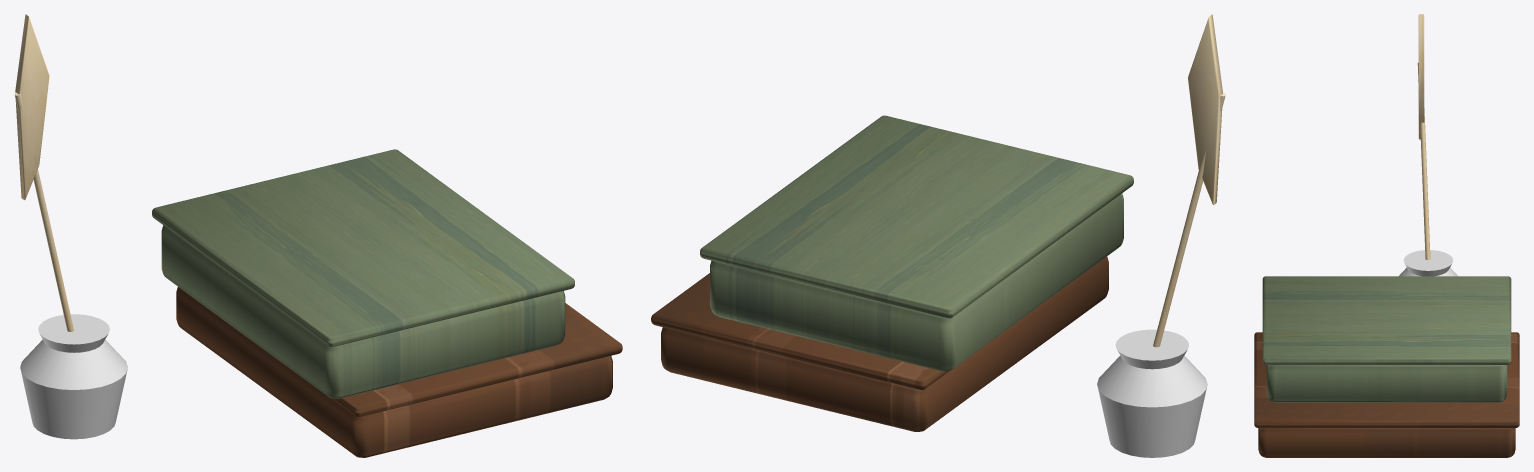
Rendered from CM_HR02_RecordsCluster.fbx.
The picture shows the model from 3 angles, left to right: view 1: azimuth 30°, elevation 25°; view 2: azimuth 150°, elevation 25°; view 3: azimuth 270°, elevation 25°; orthographic projection. The views are drawn at different scales.
Visible parts, largest first — view 1: CM_HR02_RecordsCluster; view 2: CM_HR02_RecordsCluster; view 3: CM_HR02_RecordsCluster.
Boxes of the visible parts, <box> form: CM_HR02_RecordsCluster: <box>14,14,622,457</box>; CM_HR02_RecordsCluster: <box>651,14,1225,457</box>; CM_HR02_RecordsCluster: <box>1254,14,1519,457</box>.
Size of the model in its own units: 0.4719 by 0.3894 by 0.32.
